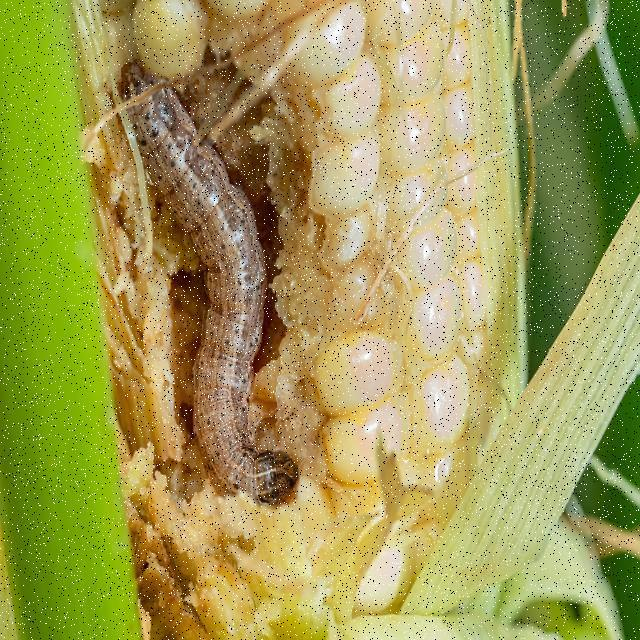army worm: (110, 62, 315, 519)
